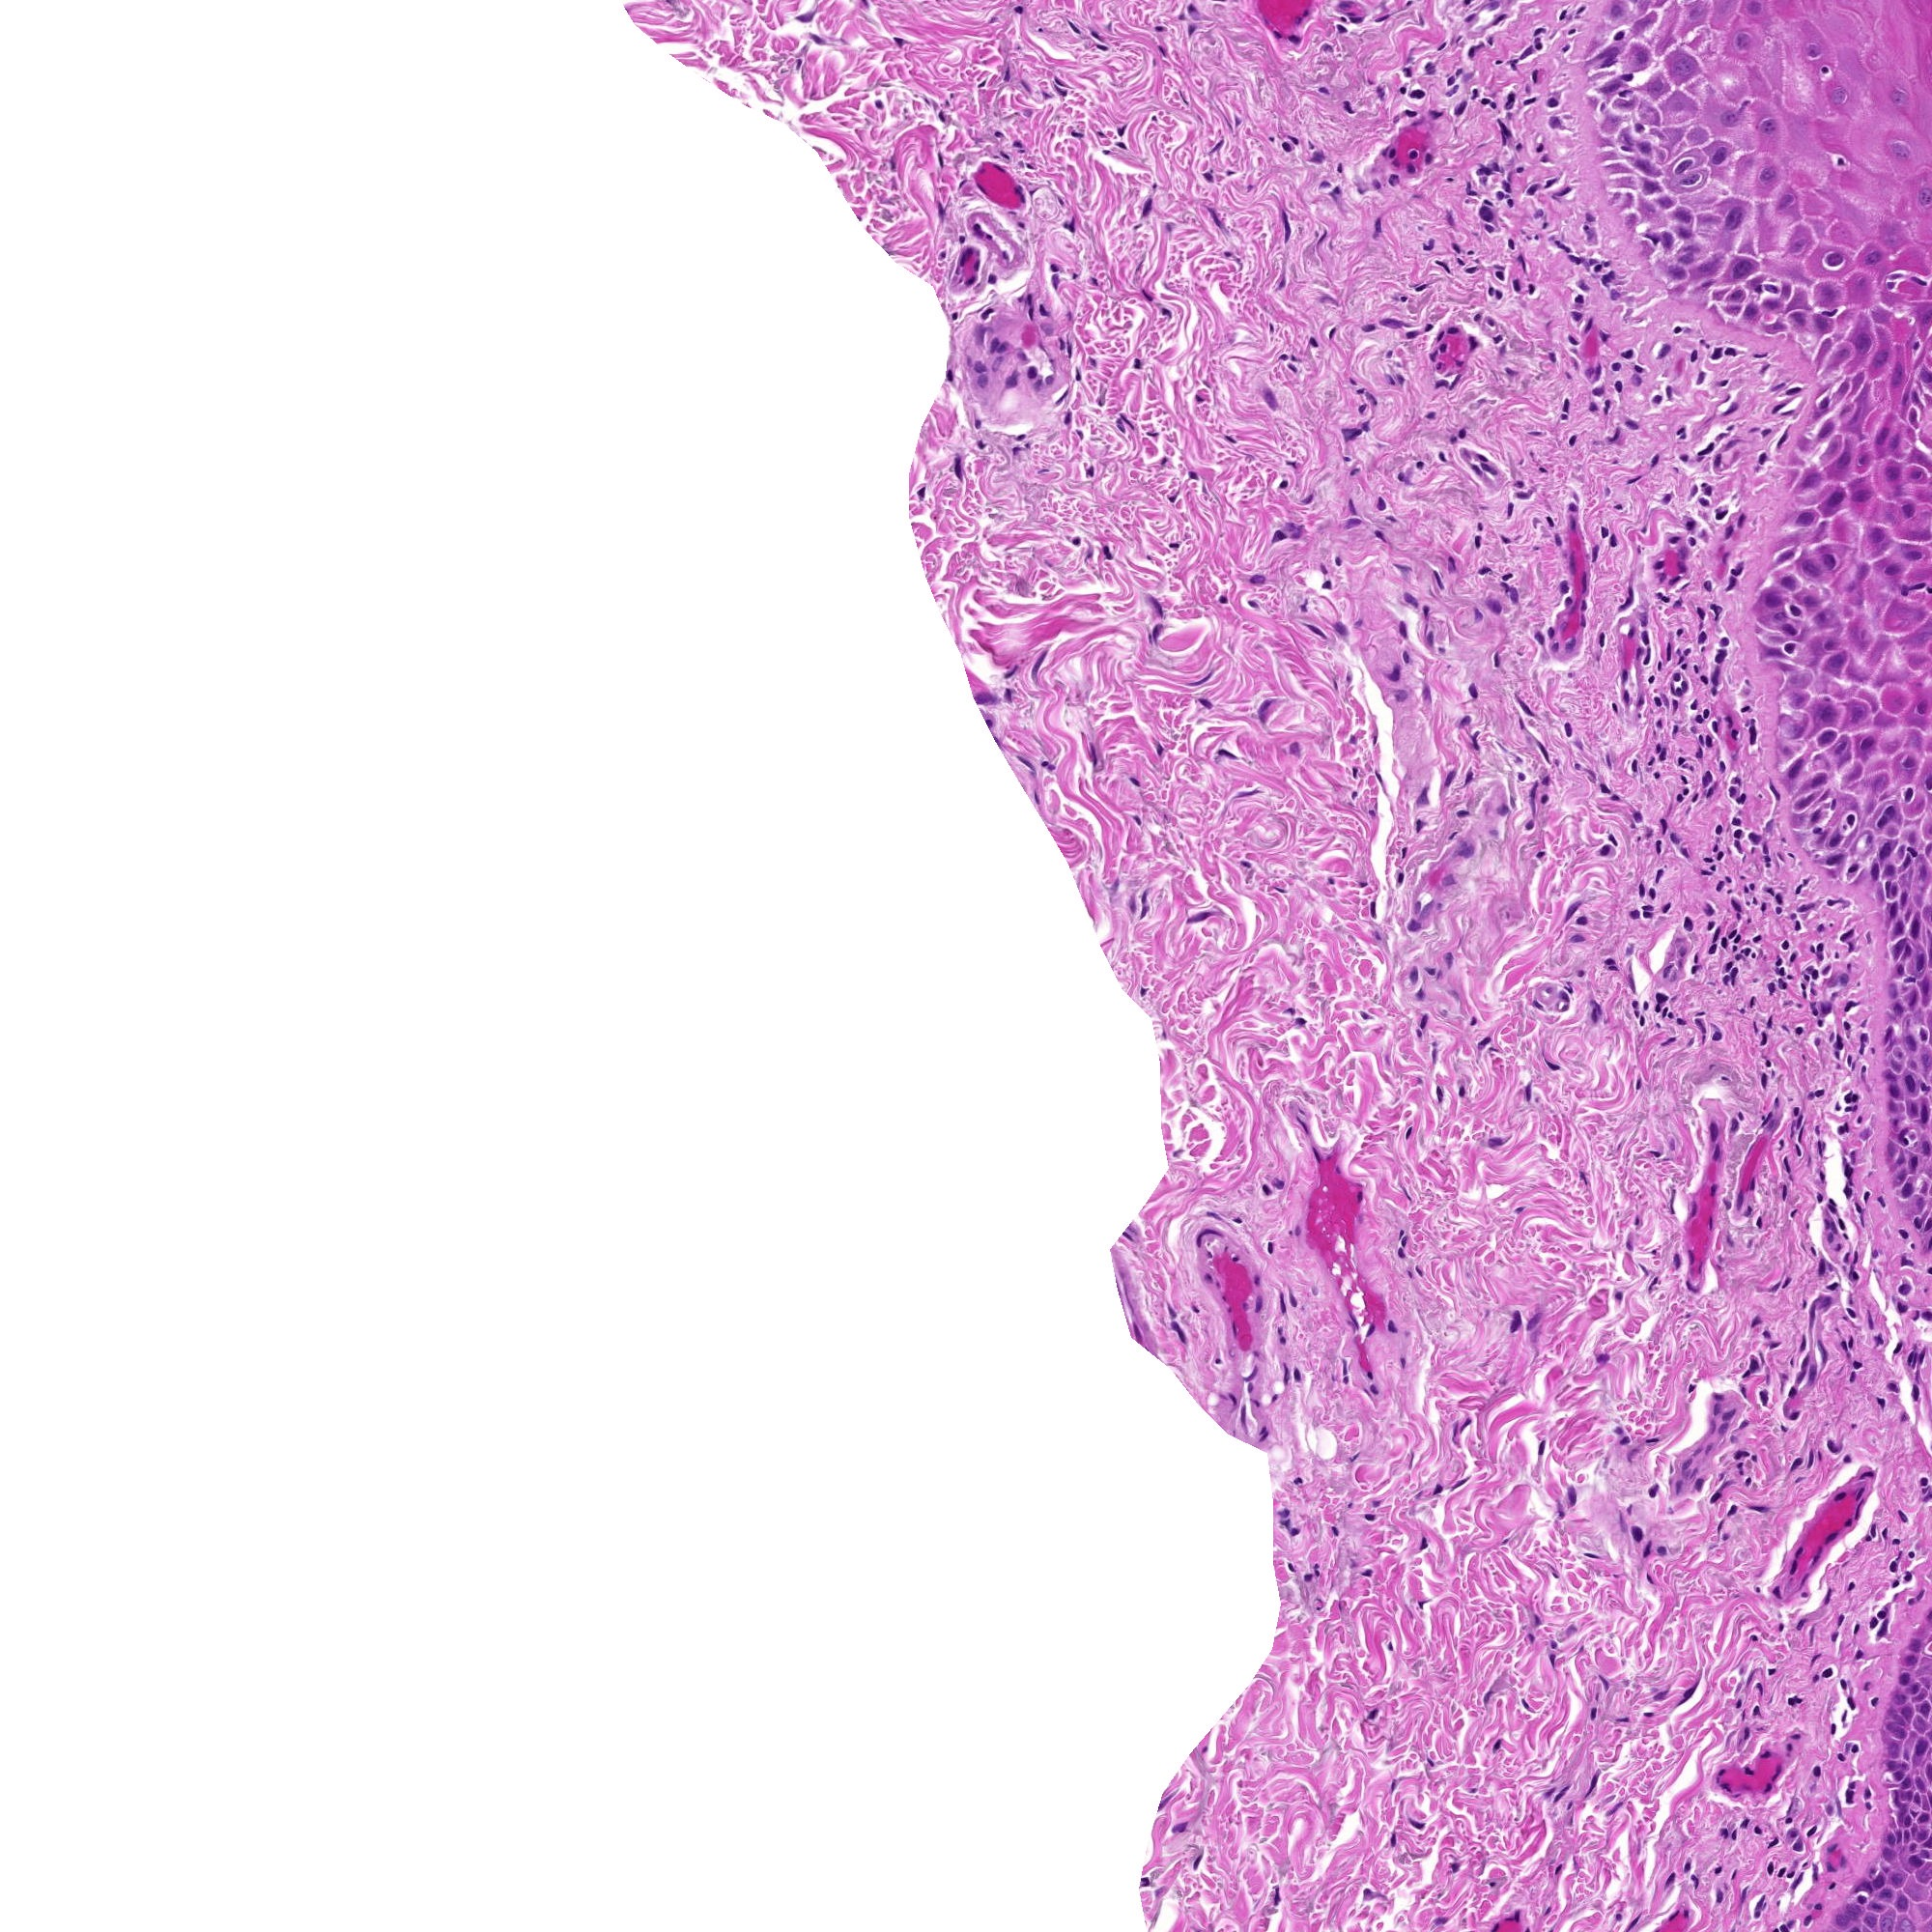epithelial: (1895, 1088, 1928, 1120), (1890, 1074, 1923, 1106), (1888, 1790, 1920, 1824), (1106, 405, 1138, 437), (1219, 1242, 1251, 1274), (1414, 1746, 1445, 1778), (1752, 110, 1783, 142), (1812, 276, 1844, 308), (1642, 71, 1674, 103), (1847, 444, 1879, 476), (1752, 159, 1783, 191), (1755, 288, 1787, 320), (1661, 257, 1693, 288), (1720, 278, 1752, 310), (1674, 163, 1706, 195), (1782, 226, 1813, 258), (1626, 149, 1658, 180), (1897, 387, 1928, 419), (1672, 239, 1704, 271), (1592, 44, 1624, 76), (1706, 203, 1737, 235), (1826, 372, 1858, 403), (1898, 442, 1930, 474), (1720, 265, 1752, 297), (1847, 317, 1879, 349), (1691, 267, 1723, 299), (1631, 193, 1663, 225), (1836, 329, 1868, 361), (1755, 584, 1787, 616), (1870, 801, 1902, 833), (1851, 729, 1882, 761), (1794, 552, 1826, 584), (1782, 715, 1813, 747), (1819, 824, 1851, 856), (1891, 842, 1923, 874), (1838, 481, 1870, 513), (1789, 786, 1821, 817), (1801, 764, 1833, 796), (1842, 621, 1874, 653), (1881, 686, 1913, 718), (1888, 858, 1920, 890), (1861, 798, 1893, 830), (1568, 564, 1599, 596), (1847, 479, 1879, 511), (1897, 566, 1928, 598), (1898, 518, 1930, 550), (1865, 729, 1897, 761), (1861, 837, 1893, 869), (1895, 1024, 1927, 1056), (1882, 993, 1914, 1024), (1891, 1173, 1923, 1205), (1881, 1023, 1913, 1054), (1884, 1111, 1916, 1143), (1897, 994, 1928, 1026), (1895, 1182, 1927, 1214), (1875, 1085, 1907, 1116), (1859, 1867, 1891, 1898), (1888, 1665, 1920, 1697), (1874, 1833, 1905, 1865), (1835, 1898, 1867, 1930), (1888, 1683, 1920, 1714), (1898, 1631, 1930, 1663), (1882, 1759, 1914, 1790), (1898, 1767, 1930, 1799), (1888, 1734, 1920, 1766), (1895, 1690, 1927, 1721), (1895, 1656, 1927, 1688), (1882, 1812, 1914, 1844), (1897, 1810, 1927, 1844), (1897, 1826, 1927, 1859), (872, 234, 904, 264), (964, 352, 994, 384), (964, 317, 994, 349), (1254, 380, 1284, 412), (991, 58, 1023, 88), (966, 170, 996, 202), (1079, 740, 1109, 771), (1343, 1180, 1373, 1212), (1221, 1311, 1251, 1343), (1725, 253, 1755, 285), (1819, 242, 1851, 272), (1847, 327, 1879, 357), (1829, 444, 1859, 476), (1865, 343, 1897, 373), (1718, 202, 1750, 232), (1858, 241, 1888, 272), (1877, 456, 1909, 487), (1882, 359, 1913, 391), (1769, 186, 1801, 216), (1867, 421, 1898, 451), (1691, 253, 1723, 283), (1725, 25, 1757, 55), (1736, 295, 1766, 327), (1667, 200, 1698, 230), (1875, 426, 1907, 456), (1635, 172, 1667, 202), (1882, 80, 1913, 111), (1612, 127, 1642, 159), (1898, 460, 1930, 490), (1672, 226, 1702, 258), (1794, 464, 1826, 494), (1875, 218, 1905, 249), (1810, 414, 1840, 446), (1826, 338, 1856, 370), (1882, 136, 1914, 166), (1732, 249, 1762, 281), (1782, 292, 1812, 324), (1667, 218, 1698, 248), (1683, 120, 1714, 150), (1898, 329, 1928, 361), (1798, 35, 1829, 65), (1812, 299, 1844, 329), (1819, 435, 1851, 465), (1836, 405, 1868, 435), (1826, 455, 1856, 487), (1902, 265, 1932, 297), (1845, 373, 1875, 405), (1780, 283, 1812, 313), (1826, 432, 1858, 462), (1693, 203, 1723, 235), (1667, 248, 1697, 280), (1594, 55, 1624, 87), (1704, 258, 1736, 288), (1808, 699, 1840, 729), (1819, 485, 1851, 515), (1861, 520, 1893, 550), (1874, 870, 1905, 901), (1813, 543, 1844, 575), (1898, 540, 1930, 570), (1898, 911, 1930, 941), (1790, 501, 1821, 533), (1870, 835, 1902, 865), (1893, 748, 1925, 778), (1773, 566, 1805, 596), (1840, 697, 1872, 727), (1872, 855, 1902, 886), (1806, 602, 1836, 633), (1775, 614, 1805, 646), (1813, 628, 1845, 658), (1863, 766, 1895, 796), (1877, 897, 1909, 927), (1891, 573, 1923, 603), (1886, 911, 1918, 941), (1890, 885, 1920, 916), (1783, 683, 1813, 715), (1875, 794, 1905, 826), (1845, 556, 1877, 586), (1884, 878, 1916, 908), (1805, 632, 1835, 663), (1867, 844, 1897, 876), (1882, 837, 1914, 867), (1828, 699, 1859, 729), (1874, 812, 1904, 844), (1838, 759, 1870, 789), (1775, 586, 1805, 617), (1773, 554, 1803, 586), (1771, 540, 1801, 571), (1812, 612, 1842, 644), (1801, 593, 1833, 623), (1764, 573, 1794, 605), (1900, 623, 1930, 655), (1882, 847, 1913, 879), (1898, 725, 1930, 755), (1863, 856, 1893, 888), (1854, 823, 1884, 855), (1897, 893, 1927, 925), (1882, 497, 1913, 529), (1856, 554, 1888, 584), (1782, 665, 1812, 697), (1888, 901, 1920, 931), (1840, 575, 1872, 605), (1881, 593, 1911, 625), (1787, 591, 1819, 621), (1844, 564, 1874, 596), (1879, 862, 1909, 893), (1888, 1122, 1918, 1154), (1897, 1146, 1928, 1177), (1897, 984, 1928, 1014), (1875, 1062, 1905, 1093), (1897, 971, 1927, 1003), (1888, 1162, 1918, 1194), (1897, 1051, 1927, 1083), (1877, 977, 1909, 1007), (1881, 1047, 1911, 1079), (1902, 1097, 1932, 1129), (1677, 1194, 1709, 1224), (1881, 1106, 1911, 1138), (1897, 1012, 1927, 1044), (1898, 1845, 1930, 1875), (1870, 1879, 1902, 1909), (1877, 1863, 1907, 1895), (1890, 1805, 1920, 1836), (1886, 1886, 1916, 1918), (1877, 1822, 1909, 1852), (1851, 1870, 1881, 1902), (1888, 1780, 1918, 1812), (1898, 1672, 1928, 1704), (1859, 1891, 1891, 1921), (1897, 1782, 1928, 1812), (1844, 1886, 1874, 1918), (1881, 1714, 1913, 1744), (1882, 1704, 1914, 1734), (1888, 1821, 1920, 1851), (1824, 1479, 1854, 1511), (1895, 1644, 1925, 1675), (1895, 1798, 1927, 1828), (1874, 1845, 1904, 1877), (1874, 1888, 1905, 1918), (1861, 1882, 1893, 1913), (1898, 1720, 1928, 1752), (982, 331, 1012, 361), (1003, 177, 1033, 207), (966, 364, 996, 395), (1005, 570, 1035, 600), (1122, 1316, 1152, 1346), (1419, 1037, 1449, 1067), (1185, 1737, 1215, 1767), (1704, 142, 1734, 172), (1808, 306, 1838, 336), (1714, 103, 1744, 133), (1783, 303, 1813, 333), (1626, 41, 1656, 71), (1667, 50, 1697, 80), (1594, 73, 1624, 103), (1845, 271, 1875, 301), (1813, 288, 1844, 318), (1865, 301, 1895, 331), (1741, 271, 1771, 301), (1716, 251, 1746, 281), (1822, 80, 1852, 110), (1760, 311, 1790, 341), (1610, 81, 1640, 111), (1629, 7, 1660, 37), (1663, 87, 1693, 117), (1842, 364, 1872, 395), (1729, 241, 1759, 271), (1867, 333, 1897, 363), (1875, 267, 1905, 297), (1886, 455, 1916, 485), (1651, 27, 1681, 57), (1893, 494, 1923, 524), (1812, 718, 1842, 748), (1888, 934, 1918, 964), (1822, 646, 1852, 676), (1897, 835, 1927, 865), (1882, 922, 1913, 952), (1877, 554, 1907, 584), (1794, 586, 1824, 616), (1828, 734, 1858, 764), (1819, 844, 1849, 874), (1778, 596, 1808, 626), (1449, 835, 1479, 865), (1757, 637, 1787, 667), (1897, 823, 1927, 853), (1875, 885, 1905, 915), (1557, 548, 1587, 579), (1865, 809, 1895, 839), (1759, 593, 1789, 623), (1815, 492, 1845, 522), (1895, 1067, 1925, 1097), (1879, 1076, 1909, 1106), (1752, 1106, 1782, 1136), (1886, 1145, 1916, 1175), (1881, 1095, 1911, 1125), (1888, 1100, 1918, 1131), (1893, 1154, 1923, 1184), (1879, 1752, 1909, 1782), (1902, 1734, 1932, 1764), (1877, 1732, 1907, 1762), (1854, 1902, 1884, 1932), (1881, 1789, 1911, 1819), (1884, 1675, 1914, 1706), (1376, 136, 1405, 168), (1867, 708, 1898, 736), (1789, 632, 1821, 660), (1865, 632, 1897, 660), (1881, 1131, 1909, 1162), (1891, 1697, 1920, 1729), (1891, 1766, 1920, 1798), (1115, 1219, 1143, 1249), (1667, 152, 1697, 180), (1897, 939, 1927, 968), (1766, 602, 1794, 632), (1859, 816, 1888, 846)
fibroblast and endothelial: (1364, 487, 1398, 518), (1808, 387, 1840, 421), (1658, 219, 1691, 251), (1762, 881, 1794, 915), (1826, 1207, 1858, 1240), (1888, 1231, 1920, 1265), (1782, 970, 1815, 1001), (789, 2, 821, 34), (801, 23, 833, 55), (934, 359, 966, 391), (938, 299, 970, 331), (927, 239, 959, 271), (1131, 191, 1162, 223), (1394, 152, 1426, 184), (1012, 287, 1044, 318), (1352, 311, 1384, 343), (1269, 19, 1300, 51), (1387, 73, 1419, 104), (1403, 271, 1435, 303), (1325, 12, 1357, 44), (1150, 295, 1182, 327), (1005, 423, 1037, 455), (1316, 317, 1348, 349), (1415, 97, 1447, 129), (1412, 142, 1444, 173), (1053, 403, 1085, 435), (1131, 280, 1162, 311), (1016, 295, 1047, 327), (1329, 173, 1361, 205), (1143, 12, 1175, 44), (1214, 423, 1246, 455), (1364, 76, 1396, 108), (1355, 386, 1387, 418), (989, 140, 1021, 172), (1000, 356, 1031, 387), (1277, 124, 1309, 156), (1385, 142, 1417, 173), (1338, 455, 1369, 487), (1311, 30, 1343, 62), (1401, 65, 1433, 97), (1368, 2, 1399, 34), (1325, 612, 1357, 644), (1139, 612, 1171, 644), (993, 678, 1024, 709), (1031, 748, 1063, 780), (1311, 568, 1343, 600), (1189, 686, 1221, 718), (1394, 584, 1426, 616), (1410, 600, 1442, 632), (1143, 732, 1175, 764), (1336, 490, 1368, 522), (1279, 517, 1311, 548), (1159, 529, 1191, 561), (1007, 653, 1039, 685), (1157, 481, 1189, 513), (1405, 890, 1437, 922), (1408, 676, 1440, 708), (1315, 865, 1346, 897), (1387, 552, 1419, 584), (1242, 563, 1274, 594), (1362, 761, 1394, 793), (975, 690, 1007, 722), (1279, 1359, 1311, 1391), (1263, 1168, 1295, 1200), (1269, 1288, 1300, 1320), (1212, 1201, 1244, 1233), (1192, 1261, 1224, 1293), (1387, 1346, 1419, 1378), (1348, 1000, 1380, 1031), (1242, 1387, 1274, 1419), (1339, 1357, 1371, 1389), (1276, 1514, 1307, 1546), (1269, 1500, 1300, 1532), (1162, 1812, 1194, 1844), (1550, 389, 1582, 421), (1583, 249, 1615, 281), (1548, 175, 1580, 207), (1513, 272, 1545, 304), (1444, 92, 1476, 124), (1591, 389, 1622, 421), (1665, 416, 1697, 448), (1444, 418, 1476, 449), (1612, 338, 1644, 370), (1651, 225, 1683, 257), (1516, 173, 1548, 205), (1746, 442, 1778, 474), (1560, 301, 1592, 333), (1490, 170, 1522, 202), (1582, 375, 1614, 407), (1437, 64, 1468, 96), (1677, 340, 1709, 372), (1437, 313, 1468, 345), (1555, 237, 1587, 269), (1444, 234, 1476, 265), (1647, 334, 1679, 366), (1750, 416, 1782, 448), (1557, 324, 1589, 356), (1461, 453, 1493, 485), (1456, 244, 1488, 276), (1454, 2, 1486, 34), (1479, 81, 1511, 113), (1454, 439, 1486, 471), (1707, 421, 1739, 453), (1718, 288, 1750, 320), (1594, 271, 1626, 303), (1493, 260, 1525, 292), (1633, 159, 1665, 191), (1748, 352, 1780, 384), (1744, 341, 1776, 373), (1629, 895, 1661, 927), (1697, 932, 1729, 964), (1566, 904, 1598, 936), (1684, 596, 1716, 628), (1725, 782, 1757, 814), (1831, 920, 1863, 952), (1479, 591, 1511, 623), (1693, 725, 1725, 757), (1766, 939, 1798, 971), (1693, 773, 1725, 805), (1598, 524, 1629, 556), (1509, 692, 1541, 724), (1490, 561, 1522, 593), (1619, 897, 1651, 929), (1525, 621, 1557, 653), (1778, 754, 1810, 786), (1661, 662, 1693, 694), (1610, 665, 1642, 697), (1782, 909, 1813, 941), (1555, 628, 1587, 660), (1665, 778, 1697, 810), (1647, 807, 1679, 839), (1693, 846, 1725, 878), (1591, 517, 1622, 548), (1631, 644, 1663, 676), (1557, 508, 1589, 540), (1495, 575, 1527, 607), (1458, 727, 1490, 759), (1663, 616, 1695, 648), (1805, 911, 1836, 943), (1704, 702, 1736, 734), (1642, 847, 1674, 879), (1679, 941, 1711, 973), (1667, 639, 1698, 671), (1697, 674, 1729, 706), (1835, 929, 1867, 961), (1642, 759, 1674, 791), (1721, 828, 1753, 860), (1615, 679, 1647, 711), (1787, 938, 1819, 970), (1702, 757, 1734, 789), (1679, 667, 1711, 699), (1783, 748, 1815, 780), (1704, 853, 1736, 885), (1707, 540, 1739, 571), (1782, 881, 1813, 913), (1652, 667, 1684, 699), (1672, 771, 1704, 803), (1644, 982, 1675, 1014), (1898, 1376, 1930, 1408), (1828, 1111, 1859, 1143), (1801, 1077, 1833, 1109), (1748, 1380, 1780, 1412), (1831, 1329, 1863, 1361), (1697, 1115, 1729, 1146), (1445, 1074, 1477, 1106), (1810, 993, 1842, 1024), (1810, 1279, 1842, 1311), (1886, 1371, 1918, 1403), (1780, 1097, 1812, 1129), (1739, 1306, 1771, 1338), (1844, 1192, 1875, 1224), (1665, 1005, 1697, 1037), (1736, 985, 1767, 1017), (1803, 1001, 1835, 1033), (1872, 1019, 1904, 1051), (1568, 1161, 1599, 1192), (1835, 1024, 1867, 1056), (1819, 1212, 1851, 1244), (1886, 1062, 1918, 1093), (1675, 1371, 1707, 1403), (1836, 1242, 1868, 1274), (1736, 1168, 1767, 1200), (1707, 1408, 1739, 1440), (1640, 1138, 1672, 1169), (1872, 1325, 1904, 1357), (1835, 1141, 1867, 1173), (1847, 1109, 1879, 1141), (1440, 1414, 1472, 1445), (1757, 1095, 1789, 1127), (1504, 1192, 1536, 1224), (1782, 1123, 1813, 1155), (1691, 1016, 1723, 1047), (1672, 1677, 1704, 1709), (1642, 1534, 1674, 1566), (1782, 1447, 1813, 1479), (1778, 1550, 1810, 1582), (1757, 1826, 1789, 1858), (1833, 1479, 1865, 1511), (1654, 1863, 1686, 1895), (1801, 1755, 1833, 1787), (1656, 1679, 1688, 1711), (1872, 1518, 1904, 1550), (1815, 1520, 1847, 1552), (1838, 1499, 1870, 1530), (1778, 1725, 1810, 1757), (1644, 1679, 1675, 1711), (1815, 1831, 1847, 1863), (1706, 1757, 1737, 1789), (1752, 1771, 1783, 1803), (1819, 1844, 1851, 1875), (1833, 1571, 1865, 1603), (1748, 1819, 1780, 1851), (1849, 1467, 1881, 1499), (1895, 1537, 1927, 1569), (1773, 1808, 1805, 1840), (1509, 1688, 1541, 1720), (1773, 1730, 1805, 1762), (1824, 1601, 1856, 1633), (1819, 1621, 1851, 1652), (1821, 1663, 1852, 1695), (1849, 1615, 1881, 1647), (1576, 1539, 1608, 1571), (1736, 1440, 1767, 1472), (1822, 1836, 1854, 1868), (1514, 1621, 1546, 1652), (1679, 1458, 1711, 1490), (1346, 722, 1380, 752), (1309, 556, 1339, 589), (1702, 924, 1732, 957), (1667, 545, 1697, 579), (1661, 713, 1691, 747), (1651, 816, 1684, 846), (1688, 745, 1718, 778), (1826, 962, 1859, 993), (1815, 1162, 1849, 1192), (1821, 1332, 1854, 1362), (1842, 1037, 1872, 1070), (1815, 1851, 1845, 1884), (941, 451, 971, 483), (885, 25, 915, 57), (925, 143, 955, 175), (927, 195, 957, 226), (927, 101, 957, 133), (784, 46, 814, 78), (939, 242, 971, 272), (936, 143, 968, 173), (1394, 97, 1426, 127), (1396, 76, 1428, 106), (1339, 2, 1369, 34), (1279, 23, 1309, 55), (1054, 209, 1085, 241), (961, 214, 993, 244), (1017, 356, 1047, 387), (1039, 255, 1070, 285), (1060, 12, 1090, 44), (1375, 306, 1405, 338), (1192, 161, 1224, 191), (1378, 163, 1408, 195), (1300, 142, 1332, 172), (975, 264, 1007, 294), (996, 364, 1026, 396), (1079, 18, 1111, 48), (1320, 175, 1350, 207), (1122, 349, 1154, 379), (1332, 90, 1362, 122), (1357, 4, 1389, 34), (1200, 203, 1231, 234), (1396, 318, 1426, 350), (1398, 140, 1428, 172), (1074, 456, 1106, 487), (1392, 55, 1422, 87), (1177, 458, 1207, 490), (1063, 119, 1095, 149), (1297, 327, 1329, 357), (970, 297, 1001, 327), (1175, 14, 1207, 44), (1085, 28, 1116, 58), (1378, 149, 1408, 180), (1031, 364, 1063, 395), (1348, 375, 1378, 407), (1047, 380, 1077, 412), (1201, 131, 1233, 161), (1387, 157, 1419, 188), (962, 407, 993, 439), (1023, 366, 1054, 396), (1277, 448, 1307, 479), (1090, 119, 1122, 149), (1148, 444, 1178, 476), (1039, 265, 1070, 295), (1325, 152, 1355, 184), (1387, 311, 1419, 341), (1403, 313, 1433, 345), (1361, 170, 1392, 200), (1306, 223, 1338, 253), (1422, 350, 1453, 382), (1007, 340, 1037, 372), (1323, 166, 1353, 198), (1276, 345, 1306, 377), (989, 241, 1021, 271), (1208, 738, 1240, 768), (1185, 901, 1217, 931), (1263, 520, 1295, 550), (1380, 658, 1410, 690), (1300, 614, 1330, 646), (1092, 536, 1122, 568), (1387, 614, 1419, 644), (1357, 892, 1389, 922), (1207, 584, 1238, 614), (1240, 571, 1270, 603), (1403, 807, 1433, 839), (1403, 591, 1435, 621), (1339, 754, 1369, 786), (1141, 591, 1173, 621), (1024, 646, 1054, 678), (1127, 885, 1159, 915), (973, 706, 1005, 736), (1389, 835, 1419, 867), (994, 656, 1024, 688), (985, 683, 1017, 713), (1408, 780, 1438, 812), (1385, 679, 1415, 711), (1012, 747, 1042, 778), (1421, 561, 1453, 591), (1399, 909, 1430, 941), (1414, 623, 1445, 653), (1120, 764, 1150, 796), (1338, 501, 1368, 533), (1279, 732, 1309, 764), (1187, 663, 1219, 694), (1231, 847, 1261, 879), (1338, 722, 1368, 754), (1389, 628, 1419, 660), (1116, 890, 1148, 920), (1346, 867, 1378, 897), (1122, 803, 1152, 835), (1019, 656, 1051, 686), (1162, 1315, 1192, 1346), (1192, 1215, 1223, 1247), (1284, 1005, 1315, 1037), (1408, 1005, 1438, 1037), (1376, 1311, 1408, 1341), (1387, 1230, 1417, 1261), (1362, 1311, 1394, 1341), (1392, 1116, 1422, 1148), (1185, 1221, 1215, 1253), (1254, 1231, 1286, 1261), (1405, 978, 1437, 1008), (1247, 1417, 1279, 1447), (1359, 1373, 1389, 1405), (1276, 1284, 1307, 1315), (1253, 1288, 1284, 1318), (1269, 1361, 1300, 1391), (1127, 975, 1159, 1005), (1217, 1382, 1247, 1414), (1352, 1311, 1384, 1341), (1398, 959, 1428, 991), (1244, 1288, 1274, 1320), (1338, 1307, 1369, 1338), (1276, 994, 1306, 1026), (1157, 1300, 1189, 1330), (1408, 961, 1440, 991), (1175, 1295, 1207, 1325), (1401, 1254, 1431, 1286), (1235, 1361, 1265, 1392), (1329, 1359, 1361, 1389), (1258, 1382, 1290, 1412), (1401, 970, 1433, 1000), (1401, 1810, 1433, 1840), (1408, 1527, 1438, 1559), (1261, 1881, 1292, 1913), (1353, 1500, 1384, 1532), (1421, 1474, 1451, 1506), (1376, 1824, 1408, 1854), (1283, 1465, 1315, 1495), (1293, 1560, 1323, 1592), (1276, 1550, 1306, 1582), (1405, 1589, 1437, 1619), (1148, 1787, 1180, 1817), (1320, 1514, 1350, 1546), (1378, 1769, 1408, 1801), (1338, 1442, 1369, 1472), (1591, 260, 1621, 292), (1713, 336, 1744, 366), (1702, 446, 1734, 476), (1495, 186, 1525, 218), (1474, 154, 1504, 186), (1605, 19, 1635, 51), (1537, 85, 1568, 117), (1467, 444, 1497, 476), (1484, 2, 1514, 34), (1458, 327, 1488, 359), (1454, 255, 1486, 285), (1522, 28, 1552, 60), (1642, 223, 1672, 255), (1539, 106, 1569, 138), (1484, 258, 1516, 288), (1463, 81, 1495, 111), (1610, 352, 1642, 382), (1511, 35, 1541, 67), (1548, 232, 1578, 264), (1688, 338, 1720, 368), (1589, 322, 1621, 352), (1615, 409, 1647, 439), (1764, 393, 1794, 425), (1522, 16, 1553, 46), (1514, 85, 1545, 117), (1601, 363, 1633, 393), (1454, 175, 1486, 205), (1518, 71, 1548, 103), (1638, 444, 1670, 474), (1707, 366, 1737, 398), (1506, 244, 1536, 276), (1582, 356, 1614, 386), (1472, 453, 1504, 483), (1472, 327, 1504, 357), (1497, 48, 1529, 78), (1767, 274, 1799, 304), (1629, 133, 1661, 163), (1573, 310, 1605, 340), (1755, 272, 1787, 303), (1686, 361, 1718, 391), (1759, 419, 1789, 451), (1566, 391, 1598, 421), (1651, 186, 1681, 218), (1486, 159, 1518, 189), (1571, 246, 1603, 276), (1704, 349, 1734, 380), (1504, 154, 1536, 184), (1527, 202, 1557, 234), (1766, 372, 1796, 403), (1451, 322, 1483, 352), (1897, 400, 1927, 432), (1454, 90, 1486, 120), (1474, 25, 1506, 55), (1527, 453, 1557, 485), (1504, 142, 1534, 173), (1546, 0, 1578, 30), (1479, 311, 1509, 343), (1463, 30, 1495, 60), (1605, 73, 1635, 104), (1493, 106, 1523, 138), (1573, 203, 1605, 234), (1598, 35, 1628, 67), (1624, 363, 1654, 395), (1773, 396, 1803, 428), (1737, 717, 1767, 748), (1700, 660, 1730, 692), (1665, 674, 1695, 706), (1700, 593, 1730, 625), (1739, 821, 1769, 853), (1714, 922, 1744, 954), (1718, 717, 1748, 748), (1674, 908, 1704, 939), (1656, 586, 1688, 616), (1626, 874, 1656, 906), (1707, 499, 1739, 529), (1686, 695, 1716, 727), (1720, 557, 1750, 589), (1729, 936, 1759, 968), (1647, 582, 1677, 614), (1720, 890, 1752, 920), (1803, 938, 1835, 968), (1591, 833, 1621, 865), (1612, 586, 1644, 616), (1702, 649, 1734, 679), (1645, 736, 1675, 768), (1589, 773, 1621, 803), (1468, 554, 1499, 586), (1700, 711, 1730, 743), (1529, 782, 1559, 814), (1458, 676, 1488, 708), (1555, 895, 1587, 925), (1686, 623, 1718, 653), (1693, 855, 1723, 886), (1675, 508, 1706, 540), (1838, 853, 1868, 885), (1642, 550, 1674, 580), (1727, 502, 1757, 534), (1631, 621, 1661, 653), (1704, 817, 1734, 849), (1723, 920, 1753, 952), (1652, 635, 1684, 665), (1461, 525, 1493, 556), (1619, 750, 1651, 780), (1658, 823, 1690, 853), (1552, 713, 1583, 743), (1658, 522, 1688, 554), (1730, 692, 1760, 724), (1481, 644, 1511, 676), (1704, 839, 1736, 869), (1790, 892, 1821, 924), (1651, 481, 1683, 511), (1621, 800, 1651, 832), (1447, 706, 1479, 736), (1720, 771, 1750, 803), (1624, 686, 1656, 717), (1451, 761, 1481, 793), (1495, 492, 1525, 524), (1523, 839, 1555, 869), (1665, 830, 1695, 862), (1642, 743, 1672, 775), (1704, 570, 1736, 600), (1580, 538, 1610, 570), (1734, 872, 1766, 902), (1893, 778, 1925, 809), (1514, 809, 1545, 840), (1684, 658, 1716, 688), (1668, 763, 1698, 794), (1688, 718, 1720, 748), (1543, 524, 1573, 556), (1488, 793, 1518, 824), (1727, 709, 1759, 740), (1711, 525, 1741, 557), (1674, 839, 1706, 869), (1631, 747, 1661, 778), (1594, 943, 1626, 973), (1688, 908, 1718, 939), (1720, 791, 1752, 821), (1773, 878, 1805, 908), (1661, 644, 1691, 676), (1683, 768, 1714, 798), (1734, 892, 1766, 922), (1670, 533, 1700, 564), (1718, 943, 1750, 973), (1633, 817, 1663, 849), (1649, 642, 1679, 674), (1507, 479, 1539, 510), (1644, 725, 1674, 757), (1693, 701, 1723, 732), (1589, 529, 1621, 559), (1713, 821, 1744, 851), (1748, 832, 1780, 862), (1649, 690, 1681, 720), (1437, 761, 1468, 791), (1670, 938, 1700, 970), (1486, 584, 1516, 616), (1520, 761, 1550, 793), (1644, 630, 1675, 660), (1720, 510, 1750, 541), (1677, 621, 1707, 653), (1437, 548, 1468, 579), (1769, 736, 1801, 766), (1566, 589, 1596, 621), (1739, 938, 1769, 970), (1695, 490, 1727, 520), (1697, 586, 1727, 617), (1654, 740, 1686, 770), (1822, 1028, 1854, 1058), (1833, 1175, 1863, 1207), (1815, 1191, 1847, 1221), (1835, 1083, 1867, 1113), (1813, 1205, 1844, 1237), (1647, 996, 1679, 1026), (1778, 1376, 1808, 1408), (1840, 1352, 1872, 1382), (1890, 1272, 1920, 1304), (1882, 1332, 1914, 1362), (1778, 1399, 1808, 1431), (1479, 1127, 1511, 1157), (1833, 991, 1865, 1021), (1702, 1021, 1734, 1051), (1806, 1253, 1836, 1284), (1537, 1051, 1568, 1083), (1886, 1290, 1916, 1322), (1790, 1357, 1822, 1387), (1748, 1063, 1780, 1093), (1509, 1302, 1541, 1332), (1861, 1387, 1893, 1417), (1720, 1108, 1750, 1139), (1808, 1338, 1840, 1368), (1757, 971, 1787, 1003), (1603, 1279, 1633, 1311), (1580, 996, 1610, 1028), (1511, 1077, 1543, 1108), (1890, 1246, 1920, 1277), (1626, 991, 1656, 1023), (1713, 1401, 1744, 1431), (1897, 1350, 1927, 1382), (1782, 1014, 1813, 1044), (1550, 982, 1580, 1014), (1865, 1185, 1897, 1215), (1704, 1384, 1734, 1415), (1835, 1297, 1867, 1327), (1863, 1323, 1895, 1353), (1654, 1024, 1684, 1056), (1805, 1129, 1835, 1161), (1684, 1008, 1716, 1039), (1789, 1341, 1821, 1371), (1656, 1000, 1686, 1031), (1716, 961, 1746, 993), (1661, 1244, 1691, 1276), (1518, 1306, 1548, 1338), (1769, 1175, 1799, 1207), (1635, 989, 1667, 1019), (1727, 1375, 1759, 1405), (1787, 1329, 1819, 1359), (1619, 973, 1649, 1005), (1449, 1408, 1479, 1440), (1458, 1005, 1488, 1037), (1835, 1044, 1865, 1076), (1697, 1175, 1729, 1205), (1794, 970, 1824, 1001), (1842, 1100, 1874, 1131), (1783, 1362, 1813, 1394), (1675, 1242, 1706, 1274), (1782, 1136, 1813, 1166), (1522, 989, 1552, 1021), (1744, 1315, 1776, 1345), (1606, 1421, 1638, 1451), (1898, 1207, 1930, 1237), (1858, 1309, 1888, 1341), (1831, 1093, 1863, 1123), (1799, 993, 1829, 1024), (1773, 1132, 1805, 1162), (1760, 1086, 1792, 1116), (1737, 1378, 1767, 1410), (1700, 1392, 1730, 1424), (1826, 1037, 1858, 1067), (1730, 1361, 1760, 1392), (1852, 1240, 1884, 1270), (1622, 1069, 1654, 1099), (1771, 1364, 1803, 1394), (1798, 959, 1829, 989), (1826, 1233, 1856, 1265), (1815, 1421, 1845, 1453), (1829, 1265, 1861, 1295), (1822, 1171, 1854, 1201), (1622, 1205, 1652, 1237), (1805, 1346, 1835, 1378), (1794, 1332, 1826, 1362), (1884, 1279, 1914, 1311), (1826, 1184, 1856, 1215), (1813, 962, 1845, 993), (1813, 1024, 1844, 1056), (1833, 1780, 1865, 1810), (1622, 1518, 1652, 1550), (1865, 1601, 1897, 1631), (1812, 1658, 1844, 1688), (1867, 1614, 1897, 1645), (1835, 1688, 1867, 1718), (1629, 1537, 1661, 1568), (1744, 1493, 1776, 1523), (1877, 1550, 1909, 1580), (1578, 1766, 1608, 1798), (1769, 1858, 1801, 1888), (1730, 1806, 1760, 1838), (1852, 1778, 1882, 1810), (1637, 1476, 1668, 1506), (1893, 1560, 1923, 1592), (1844, 1638, 1874, 1670), (1674, 1470, 1706, 1500), (1799, 1859, 1831, 1890), (1831, 1507, 1863, 1537), (1557, 1481, 1587, 1513), (1729, 1718, 1760, 1748), (1858, 1514, 1888, 1546), (1776, 1819, 1808, 1849), (1782, 1541, 1812, 1573), (1836, 1734, 1868, 1764), (1716, 1495, 1748, 1525), (1499, 1900, 1530, 1930), (1852, 1458, 1882, 1490), (1709, 1769, 1739, 1801), (1670, 1851, 1702, 1881), (1679, 1865, 1711, 1895), (1734, 1757, 1764, 1789), (1812, 1580, 1844, 1610), (1541, 1780, 1573, 1810), (1782, 1865, 1812, 1897), (1842, 1612, 1872, 1644), (1760, 1576, 1792, 1606), (1444, 1467, 1474, 1499), (1844, 1479, 1875, 1509), (1704, 1881, 1734, 1913), (1649, 1474, 1681, 1504), (1799, 1642, 1831, 1672), (1734, 1465, 1764, 1497), (1801, 1541, 1831, 1573), (1543, 1852, 1573, 1884), (1537, 1644, 1568, 1675), (1545, 1497, 1576, 1527), (1762, 1755, 1792, 1787), (1803, 1891, 1833, 1923), (1723, 1688, 1755, 1718), (1721, 1757, 1752, 1789), (1472, 1681, 1502, 1713), (1672, 1453, 1702, 1484), (1633, 1698, 1663, 1730), (1737, 1622, 1769, 1652), (1520, 1605, 1552, 1635), (1706, 1511, 1737, 1541), (1844, 1874, 1874, 1905), (1897, 1583, 1928, 1614), (1805, 1852, 1835, 1884), (1691, 1852, 1723, 1882), (1757, 1764, 1789, 1794), (1780, 1854, 1812, 1884), (1787, 1559, 1819, 1589), (1633, 1550, 1663, 1582), (878, 149, 908, 179), (863, 88, 893, 119), (1338, 418, 1368, 448), (1028, 295, 1058, 326), (1106, 117, 1136, 147), (1272, 131, 1302, 161), (1346, 414, 1376, 444), (1415, 51, 1445, 81), (1362, 211, 1392, 241), (961, 249, 991, 280), (1313, 172, 1343, 202), (1419, 340, 1449, 370), (1003, 129, 1033, 159), (1044, 71, 1074, 101), (1412, 230, 1442, 260), (1063, 361, 1093, 391), (1382, 364, 1412, 395), (1387, 462, 1417, 492), (1146, 32, 1177, 62), (1051, 331, 1081, 361), (1184, 382, 1214, 412), (982, 119, 1012, 149), (1387, 283, 1417, 313), (968, 219, 998, 249), (1060, 260, 1090, 290), (1023, 285, 1053, 315), (970, 685, 1000, 715), (1384, 863, 1414, 893), (1062, 525, 1092, 556), (1364, 518, 1394, 548), (1129, 895, 1159, 925), (1293, 483, 1323, 513), (1237, 589, 1267, 619), (1392, 642, 1422, 672), (1081, 538, 1111, 568), (1288, 591, 1318, 621), (1231, 778, 1261, 809), (1253, 1173, 1283, 1203), (1353, 1359, 1384, 1389), (1302, 1139, 1332, 1169), (1422, 1077, 1453, 1108), (1198, 1200, 1228, 1230), (1223, 1205, 1253, 1235), (1267, 1322, 1297, 1352), (1228, 1401, 1258, 1431), (1288, 1109, 1318, 1139), (1242, 1265, 1272, 1295), (1168, 1322, 1198, 1352), (1131, 1867, 1161, 1897), (1357, 1698, 1387, 1729), (1182, 1845, 1212, 1875), (1352, 1557, 1382, 1587), (1352, 1877, 1382, 1907), (1300, 1557, 1330, 1587), (1361, 1488, 1391, 1518), (1490, 117, 1520, 147), (1495, 83, 1525, 113), (1472, 198, 1502, 228), (1479, 278, 1509, 308), (1562, 244, 1592, 274), (1767, 425, 1798, 455), (1691, 435, 1721, 465), (1702, 338, 1732, 368), (1500, 269, 1530, 299), (1456, 35, 1486, 65), (1536, 166, 1566, 196), (1520, 60, 1550, 90), (1778, 375, 1808, 405), (1557, 425, 1587, 455), (1670, 442, 1700, 472), (1716, 395, 1746, 425), (1622, 354, 1652, 384), (1525, 133, 1555, 163), (1601, 421, 1631, 451), (1568, 269, 1598, 299), (1663, 313, 1693, 343), (1483, 324, 1513, 354), (1612, 62, 1642, 92), (1474, 209, 1504, 239), (1599, 373, 1629, 403), (1447, 58, 1477, 88), (1527, 83, 1557, 113), (1573, 214, 1603, 244), (1702, 430, 1732, 460), (1684, 441, 1714, 471), (1495, 357, 1525, 387), (1537, 341, 1568, 372), (1504, 131, 1534, 161), (1805, 396, 1835, 426), (1552, 32, 1582, 62), (1440, 366, 1470, 396), (1477, 191, 1507, 221), (1599, 280, 1629, 310), (1488, 99, 1518, 129), (1716, 428, 1746, 458), (1529, 142, 1559, 172), (1601, 28, 1631, 58), (1619, 465, 1649, 495), (1444, 349, 1474, 379), (1706, 640, 1736, 671), (1741, 922, 1771, 952), (1557, 497, 1587, 527), (1727, 720, 1757, 750), (1714, 706, 1744, 736), (1637, 878, 1667, 908), (1852, 855, 1882, 885), (1667, 747, 1697, 777), (1691, 763, 1721, 793), (1752, 842, 1782, 872), (1713, 810, 1743, 840), (1529, 736, 1559, 766), (1693, 667, 1723, 697), (1697, 913, 1727, 943), (1686, 607, 1716, 637), (1720, 805, 1750, 835), (1536, 506, 1566, 536), (1644, 858, 1674, 888), (1759, 775, 1789, 805), (1785, 870, 1815, 901), (1753, 876, 1783, 906), (1658, 564, 1688, 594), (1638, 685, 1668, 715), (1644, 832, 1674, 862), (1599, 780, 1629, 810), (1660, 683, 1690, 713), (1695, 899, 1725, 929), (1817, 886, 1847, 916), (1709, 626, 1739, 656), (1562, 922, 1592, 952), (1447, 796, 1477, 826), (1720, 931, 1750, 961), (1596, 826, 1626, 856), (1539, 632, 1569, 662), (1683, 702, 1713, 732), (1629, 602, 1660, 632), (1649, 563, 1679, 593), (1628, 632, 1658, 662), (1805, 817, 1835, 847), (1530, 764, 1560, 794), (1799, 801, 1829, 832), (1663, 559, 1693, 589), (1690, 938, 1720, 968), (1539, 513, 1569, 543), (1603, 490, 1633, 520), (1490, 524, 1520, 554), (1553, 586, 1583, 616), (1674, 660, 1704, 690), (1463, 600, 1493, 630), (1796, 793, 1826, 823), (1667, 690, 1697, 720), (1661, 538, 1691, 568), (1568, 607, 1598, 637), (1764, 893, 1794, 924), (1640, 869, 1670, 899), (1753, 810, 1783, 840), (1833, 1155, 1863, 1185), (1500, 1307, 1530, 1338), (1893, 1341, 1923, 1371), (1737, 1352, 1767, 1382), (1771, 1150, 1801, 1180), (1838, 1260, 1868, 1290), (1888, 1219, 1918, 1249), (1847, 1023, 1877, 1053), (1819, 1270, 1849, 1300), (1748, 1021, 1778, 1051), (1626, 1005, 1656, 1035), (1767, 970, 1798, 1000), (1877, 1371, 1907, 1401), (1468, 1026, 1499, 1056), (1587, 1343, 1617, 1373), (1753, 1008, 1783, 1039), (1806, 1161, 1836, 1191), (1798, 1297, 1828, 1327), (1721, 1185, 1752, 1215), (1702, 1138, 1732, 1168), (1766, 1269, 1796, 1299), (1734, 1196, 1764, 1226), (1753, 1323, 1783, 1353), (1752, 1047, 1782, 1077), (1729, 1408, 1759, 1438), (1675, 1270, 1706, 1300), (1702, 1127, 1732, 1157), (1637, 1422, 1667, 1453), (1638, 1267, 1668, 1297), (1805, 1290, 1835, 1320), (1819, 1224, 1849, 1254), (1836, 1343, 1867, 1373), (1782, 1108, 1812, 1138), (1805, 1150, 1835, 1180), (1836, 1184, 1867, 1214), (1789, 1371, 1819, 1401), (1654, 984, 1684, 1014), (1888, 1401, 1918, 1431), (1900, 1338, 1930, 1368), (1771, 1410, 1801, 1440), (1700, 1481, 1730, 1511), (1684, 1468, 1714, 1499), (1778, 1686, 1808, 1716), (1859, 1610, 1890, 1640), (1578, 1697, 1608, 1727), (1725, 1440, 1755, 1470), (1711, 1817, 1741, 1847), (1440, 1851, 1470, 1881), (1783, 1831, 1813, 1861), (1744, 1891, 1775, 1921), (1829, 1668, 1859, 1698), (1785, 1608, 1815, 1638), (1750, 1739, 1780, 1769), (1796, 1444, 1826, 1474), (1729, 1879, 1759, 1909), (1888, 1500, 1918, 1530), (1661, 1900, 1691, 1930), (1612, 1900, 1642, 1930), (1663, 1472, 1693, 1502), (1670, 1898, 1700, 1928), (1635, 1562, 1665, 1592), (1608, 1704, 1638, 1734), (1819, 1794, 1849, 1824), (1725, 1451, 1755, 1481), (1633, 1529, 1663, 1559), (1721, 1819, 1752, 1849), (1709, 1472, 1739, 1502), (1272, 209, 1300, 241), (1562, 285, 1594, 313), (1713, 517, 1744, 545), (1716, 568, 1748, 596), (1651, 893, 1683, 922), (1587, 623, 1615, 655), (1713, 938, 1741, 970), (1679, 784, 1711, 812), (1516, 778, 1548, 807), (1829, 1017, 1858, 1049), (1744, 1205, 1773, 1237), (1775, 1387, 1806, 1415), (1483, 1729, 1511, 1760), (1828, 1702, 1859, 1730), (1419, 318, 1447, 349), (959, 237, 987, 267), (1251, 690, 1279, 720), (1376, 502, 1405, 533), (1472, 87, 1500, 117), (1497, 127, 1527, 156), (1723, 819, 1752, 849), (1608, 685, 1637, 715), (1766, 959, 1796, 987), (1881, 1568, 1909, 1598), (1665, 1859, 1695, 1888), (959, 265, 985, 295)
inflammatory: (1704, 1865, 1734, 1897)
lymphocyte: (1322, 543, 1353, 575), (1599, 350, 1631, 382), (1461, 301, 1493, 333), (1472, 304, 1504, 336), (1824, 145, 1856, 177), (1748, 428, 1780, 460), (1773, 632, 1805, 663), (1635, 663, 1667, 695), (1691, 570, 1723, 602), (1808, 1184, 1840, 1215), (1851, 1180, 1882, 1212), (1895, 1550, 1927, 1582), (1808, 51, 1838, 85), (1412, 311, 1444, 341), (964, 428, 996, 458), (1405, 448, 1435, 479), (1106, 129, 1138, 159), (966, 67, 996, 99), (984, 152, 1014, 184), (1077, 345, 1108, 377), (1339, 764, 1369, 796), (1578, 391, 1608, 423), (1622, 111, 1654, 142), (1486, 179, 1516, 211), (1495, 228, 1527, 258), (1829, 395, 1859, 426), (1555, 14, 1587, 44), (1534, 617, 1566, 648), (1835, 803, 1865, 835), (1707, 750, 1737, 782), (1776, 941, 1806, 973), (1707, 867, 1737, 899), (1615, 617, 1647, 648), (1677, 690, 1709, 720), (1548, 571, 1580, 602), (1748, 890, 1780, 920), (1674, 649, 1704, 681), (1644, 699, 1674, 731), (1665, 630, 1697, 660), (1649, 824, 1679, 856), (1831, 1007, 1863, 1037), (1741, 1813, 1771, 1845), (1796, 1815, 1826, 1847), (1831, 1444, 1863, 1474), (1741, 1695, 1771, 1727), (1702, 1854, 1734, 1884), (1757, 1654, 1787, 1686), (1881, 1525, 1911, 1557), (1817, 1713, 1847, 1744), (1743, 1670, 1773, 1702), (1852, 1670, 1882, 1702), (1822, 1610, 1852, 1642), (1833, 1606, 1865, 1637), (1743, 1658, 1775, 1688), (1346, 393, 1376, 423), (1415, 400, 1445, 430), (1269, 465, 1299, 495), (1079, 265, 1109, 295), (1001, 433, 1031, 464), (1642, 384, 1672, 414), (1444, 246, 1474, 276), (1651, 377, 1681, 407), (1615, 119, 1645, 149), (1688, 487, 1718, 517), (1769, 929, 1799, 959), (1644, 649, 1674, 679), (1684, 738, 1714, 768), (1675, 520, 1706, 550), (1599, 692, 1629, 722), (1506, 761, 1536, 791), (1817, 787, 1847, 817), (1628, 612, 1658, 642), (1677, 745, 1707, 775), (1836, 1361, 1867, 1391), (1711, 1189, 1741, 1219), (1759, 1854, 1789, 1884), (1829, 1739, 1859, 1769), (1859, 1686, 1890, 1716), (1792, 1902, 1824, 1930), (1815, 1870, 1847, 1898), (1766, 1612, 1794, 1642)
